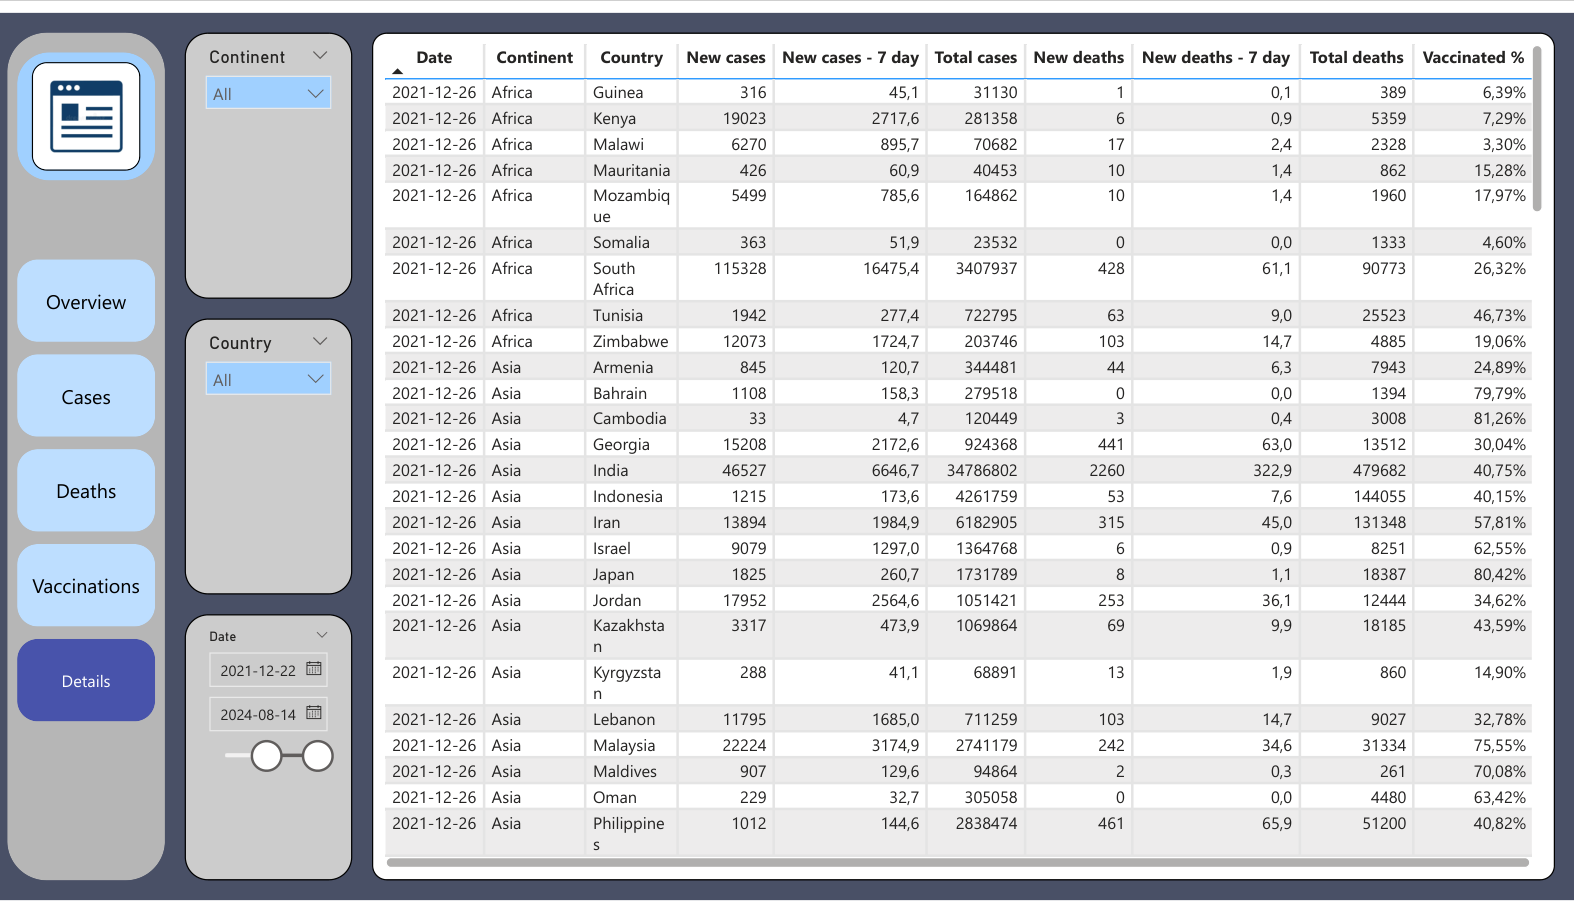

The dashboard page shown, as its layout file describes it:
{"tool":"powerbi","page":{"name":"Details","canvas":[1280,720],"ordinal":4},"visuals":[{"type":"shape","box":[8,16,128,688],"z":0},{"type":"pageNavigator","box":[16,200,112,376],"z":1000},{"type":"slicer","fields":{"Values":["DateTable.Date"]},"box":[152,488,136,216],"z":2000},{"type":"slicer","fields":{"Values":["covid_final.location"]},"box":[152,248,136,224],"z":3000},{"type":"slicer","fields":{"Values":["covid_final.continent"]},"box":[152,16,136,216],"z":4000},{"type":"shape","box":[16,32,112,104],"z":5000},{"type":"image","box":[28,39.6,88,88],"z":6000},{"type":"tableEx","fields":{"Values":["DateTable.Date","covid_final.continent","covid_final.location","covid_final.new_cases","covid_final.new_cases_7day","covid_final.total_cases","covid_final.new_deaths","covid_final.new_deaths_7day","covid_final.total_deaths","covid_final.Vaccinated % (clean)"]},"box":[304,16,960,688],"z":7000}]}

Visuals, with their boxes in screenshot pixels (x1, y1, x2, y2):
shape: x1=0 y1=8 x2=159 y2=873
pageNavigator: x1=8 y1=239 x2=149 y2=712
slicer - DateTable.Date: x1=179 y1=601 x2=350 y2=873
slicer - covid_final.location: x1=179 y1=300 x2=350 y2=581
slicer - covid_final.continent: x1=179 y1=8 x2=350 y2=279
shape: x1=8 y1=28 x2=149 y2=159
image: x1=23 y1=37 x2=134 y2=148
tableEx - DateTable.Date x covid_final.continent: x1=370 y1=8 x2=1573 y2=873
